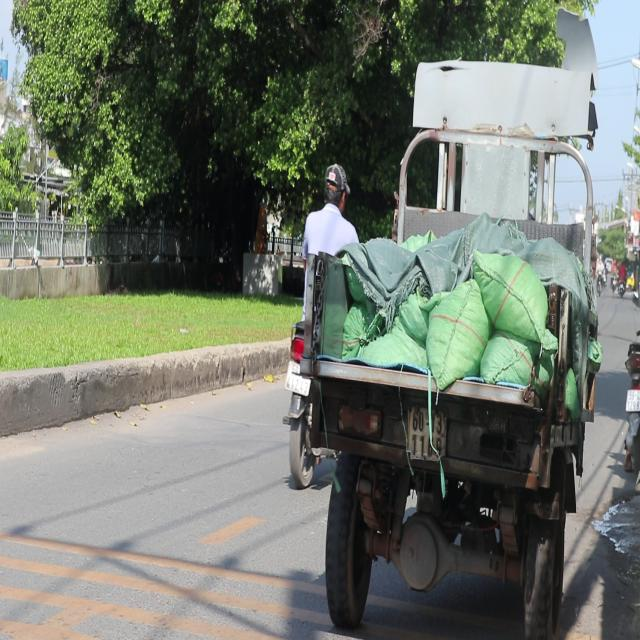licenseplate: (620, 223, 639, 477)
motorcyclist: (322, 162, 350, 213), (625, 388, 639, 409)
nohelmet: (285, 361, 311, 396)
